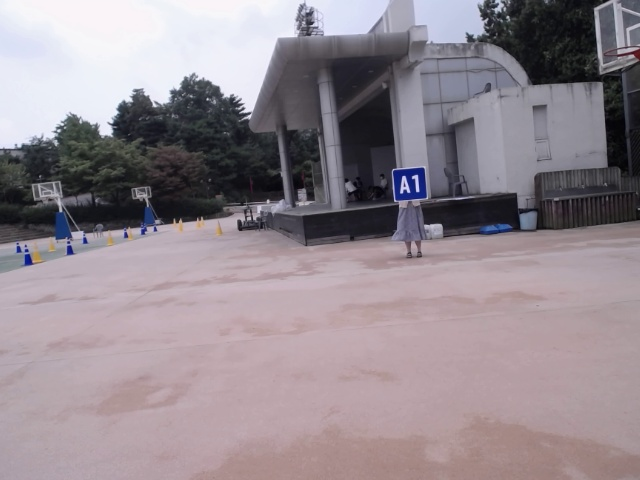delivery_a1: (392, 167, 428, 202)
